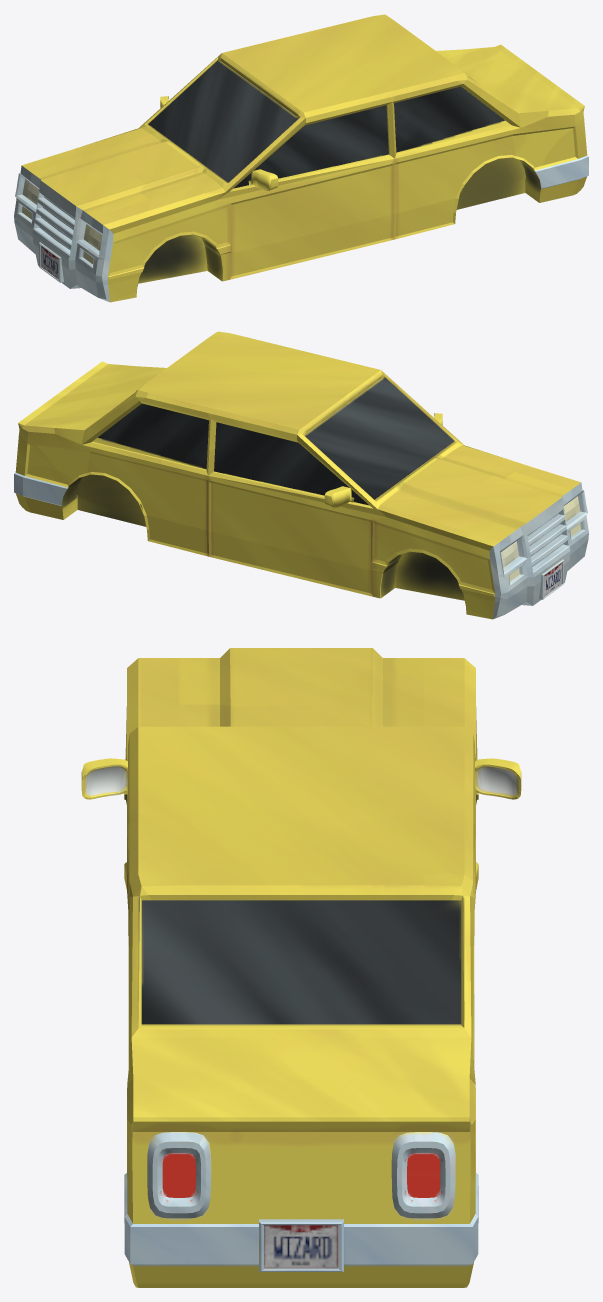
The model's file is Car_Body.fbx.
3 views of the same model, one above another, from view 1: azimuth 30°, elevation 25°; view 2: azimuth 150°, elevation 25°; view 3: azimuth 270°, elevation 25° (orthographic). The views are drawn at different scales.
Parts seen in each view (by area): view 1: Car; view 2: Car; view 3: Car.
Part boxes in pixels (x1=…): Car: x1=14, y1=14, x2=588, y2=302; Car: x1=14, y1=331, x2=588, y2=619; Car: x1=81, y1=648, x2=521, y2=1287.
Size of the model in its own units: 485 by 137 by 185.
